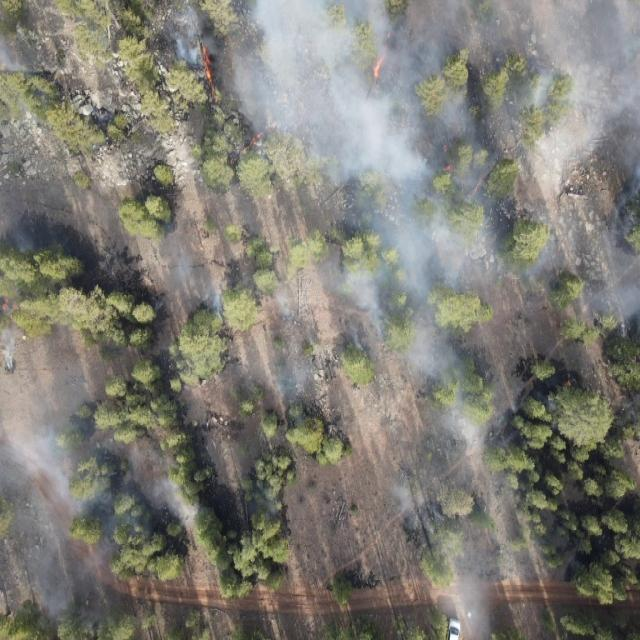fire: (194, 42, 222, 102), (226, 128, 266, 164), (368, 40, 390, 81), (468, 168, 487, 201), (0, 295, 14, 316), (442, 164, 454, 178), (563, 378, 573, 388), (442, 146, 450, 154)
smoke: (161, 1, 640, 167), (306, 164, 640, 332), (1, 420, 192, 640), (394, 332, 513, 640), (262, 275, 332, 409), (151, 233, 236, 324), (0, 12, 44, 98), (0, 182, 44, 256), (0, 284, 28, 384), (535, 388, 564, 418)
